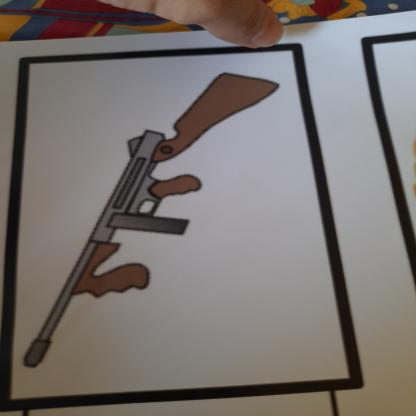Bootlegger: (23, 68, 289, 372)
